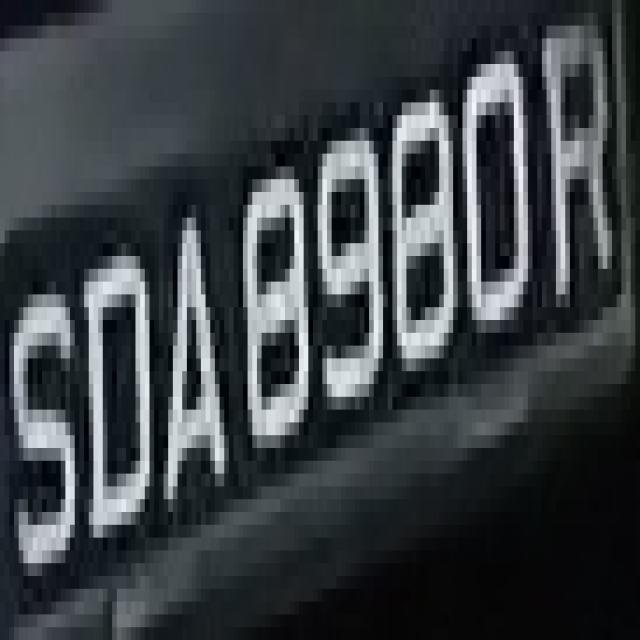0: (453, 51, 528, 346)
8: (369, 51, 453, 422), (238, 141, 327, 435)
9: (304, 128, 388, 435)
A: (140, 167, 234, 550)
D: (70, 230, 164, 550)
R: (542, 26, 621, 320)
S: (10, 218, 80, 602)
